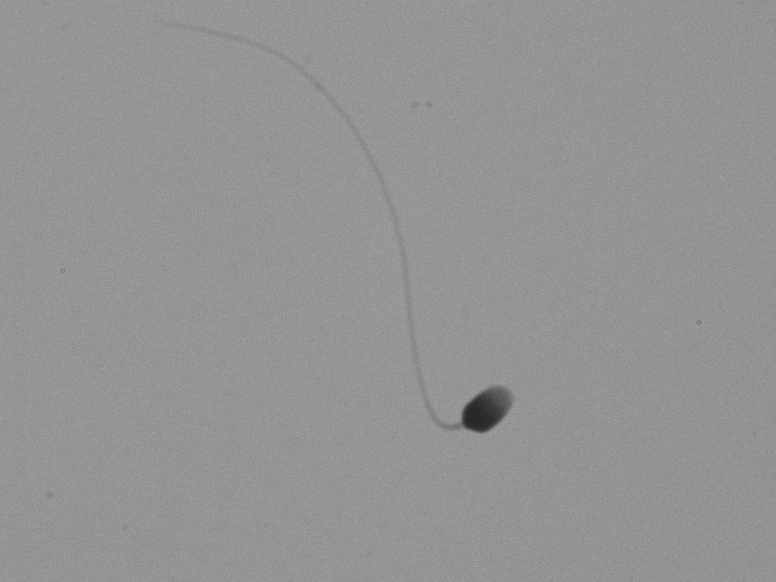Normal: (176, 19, 556, 477)
